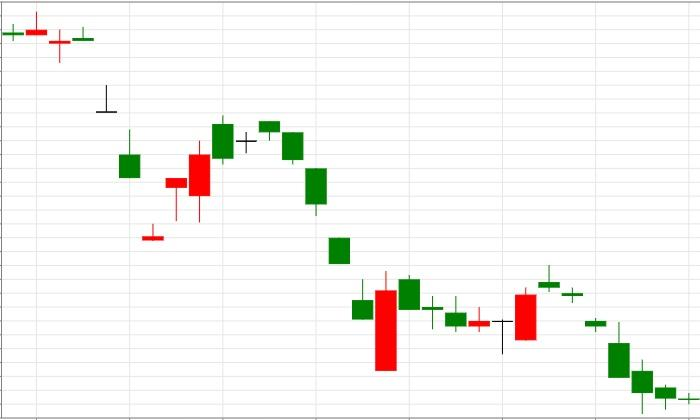bullish_engulfing_rise: (259, 121, 397, 371)
